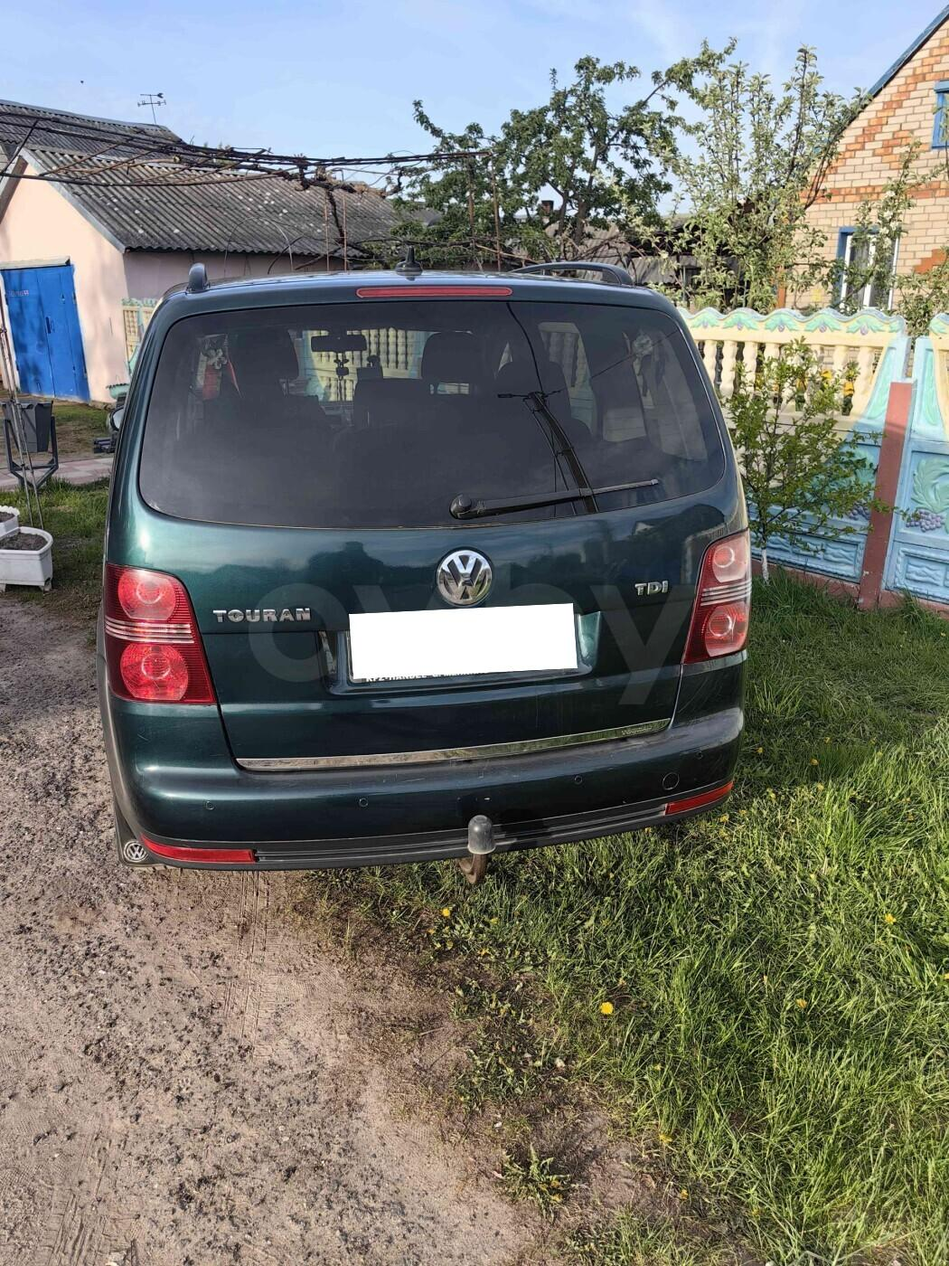Touran_2006-2010: (101, 264, 750, 879)
